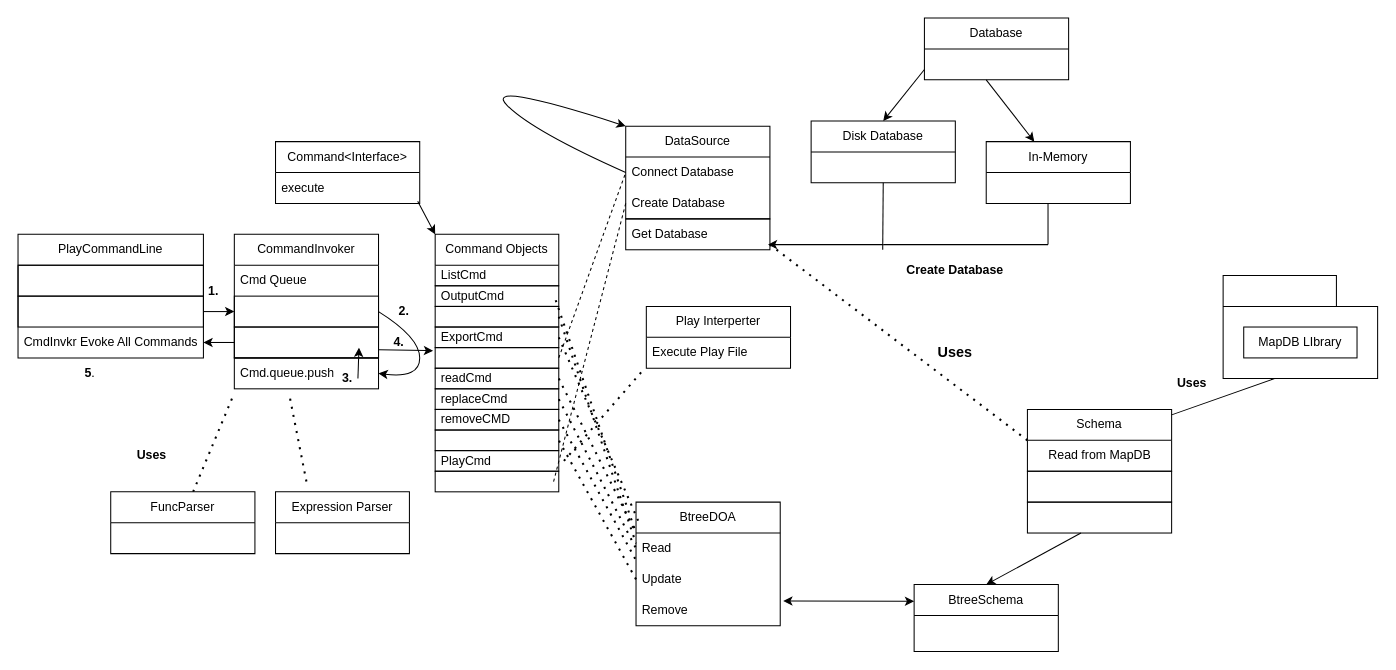
The diagram is 1396 pixels wide and 670 high, and some of its shapes have lost their labels. The shapes that lost their labels are listed below. From the top down, each one's centre as x and y in pixels, then its label:
At (x=110, y=280): "Main".
At (x=110, y=311): "CmdInvkr Push".
At (x=306, y=311): "Lexer/Parser".
At (x=496, y=316): "ImportCmd".
At (x=1300, y=326): "Package1".
At (x=306, y=342): "Cmd.evoke.Queue".
At (x=496, y=357): "ConnectCmd".
At (x=496, y=440): "copyCmd".
At (x=496, y=481): "CreateCmd".
At (x=1099, y=486): "Remove from MapDB".
At (x=1099, y=517): "Delete from MapDB".
